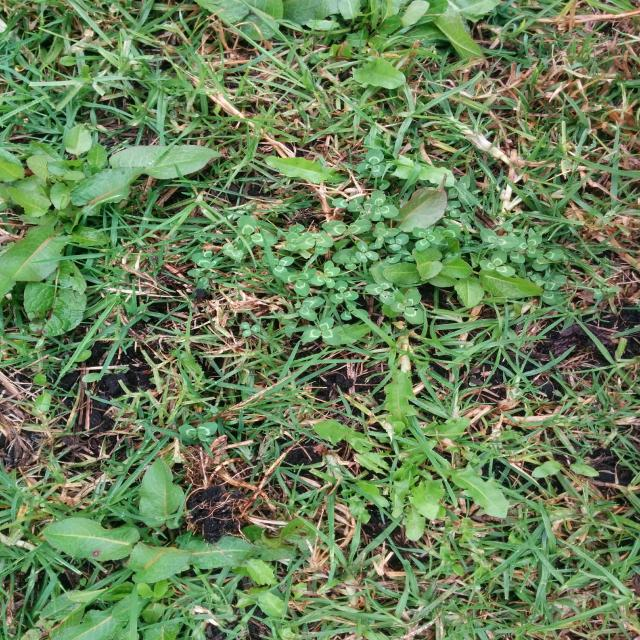Four Leaf Clover: (311, 260, 340, 289)
